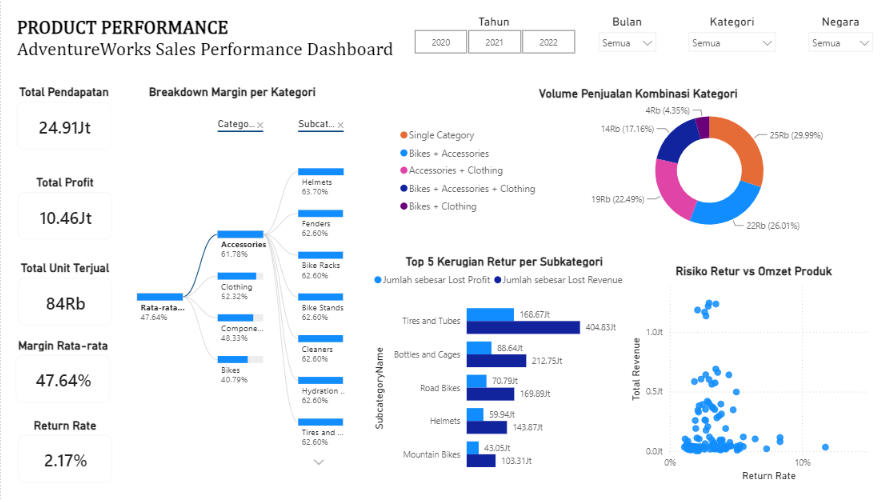

Layout of this report page (visuals, bound fields, positions):
{"tool":"powerbi","page":{"name":"PRODUCT","canvas":[1280,720],"ordinal":2},"visuals":[{"type":"textbox","box":[18.3,20,556.7,76.7],"z":0},{"type":"slicer","title":"Tahun","fields":{"Values":["Calendar.Date.Variasi.Hierarki Tanggal.Tahun"]},"box":[565.2,20,279,63],"z":1000},{"type":"slicer","title":"Kategori","fields":{"Values":["Product_Categories.CategoryName"]},"box":[972.6,20,145,63],"z":2000},{"type":"slicer","title":"Negara","fields":{"Values":["Territory.Country"]},"box":[1144.2,20,112.5,63],"z":3000},{"type":"slicer","title":"Bulan","fields":{"Values":["Calendar.Date.Variasi.Hierarki Tanggal.Bulan"]},"box":[844.2,20,102.5,63],"z":4000},{"type":"cardVisual","title":"Total Profit","fields":{"Data":["Sales.Total Profit"]},"box":[20,250,145,98],"z":5000},{"type":"cardVisual","title":"Total Pendapatan","fields":{"Data":["Sales.Total Revenue"]},"box":[18.3,121.7,145,98],"z":6000},{"type":"cardVisual","title":"Total Unit Terjual","fields":{"Data":["Sales.Total Units Sold"]},"box":[20,373.3,145,98],"z":7000},{"type":"cardVisual","title":"Margin Rata-rata","fields":{"Data":["Avg(Product.MARGIN)"]},"box":[16.7,483.3,145,98],"z":8000},{"type":"scatterChart","title":"Risiko Retur vs Omzet Produk","fields":{"Category":["Product.ProductName"],"X":["Returns.Return Rate"],"Y":["Sales.Total Revenue"]},"box":[895.7,372.9,361.4,320],"z":10000},{"type":"decompositionTreeVisual","title":"Breakdown Margin per Kategori","fields":{"Analyze":["Avg(Product.MARGIN)"],"ExplainBy":["Product_Categories.CategoryName","Product_Subcategories.SubcategoryName"]},"box":[165.7,121.4,331.4,570],"z":11000},{"type":"clusteredBarChart","title":"Top 5 Kerugian Retur per Subkategori","fields":{"Category":["Product_Subcategories.SubcategoryName"],"Y":["Sum(Returns.Lost Profit)","Sum(Returns.Lost Revenue)"]},"box":[528.6,362.9,382.9,330],"z":12000},{"type":"donutChart","title":"Volume Penjualan Kombinasi Kategori","fields":{"Category":["Customer.Cross Category Group"],"Y":["Sales.Total Units Sold"]},"box":[565.7,122.9,691.4,224.3],"z":12001},{"type":"cardVisual","title":"Return Rate","fields":{"Data":["Returns.Return Rate"]},"box":[20,596.7,145,98],"z":12002}]}

Visuals, with their boxes in screenshot pixels (x1, y1, x2, y2), scaled from the page's 1280x720 canvas onto the 896x502 screenshot:
textbox: <bbox>13, 14, 402, 67</bbox>
"Tahun" slicer: <bbox>396, 14, 591, 58</bbox>
"Kategori" slicer: <bbox>681, 14, 782, 58</bbox>
"Negara" slicer: <bbox>801, 14, 880, 58</bbox>
"Bulan" slicer: <bbox>591, 14, 663, 58</bbox>
"Total Profit" cardVisual: <bbox>14, 174, 115, 243</bbox>
"Total Pendapatan" cardVisual: <bbox>13, 85, 114, 153</bbox>
"Total Unit Terjual" cardVisual: <bbox>14, 260, 115, 329</bbox>
"Margin Rata-rata" cardVisual: <bbox>12, 337, 113, 405</bbox>
"Risiko Retur vs Omzet Produk" scatterChart: <bbox>627, 260, 880, 483</bbox>
"Breakdown Margin per Kategori" decompositionTreeVisual: <bbox>116, 85, 348, 482</bbox>
"Top 5 Kerugian Retur per Subkategori" clusteredBarChart: <bbox>370, 253, 638, 483</bbox>
"Volume Penjualan Kombinasi Kategori" donutChart: <bbox>396, 86, 880, 242</bbox>
"Return Rate" cardVisual: <bbox>14, 416, 115, 484</bbox>
